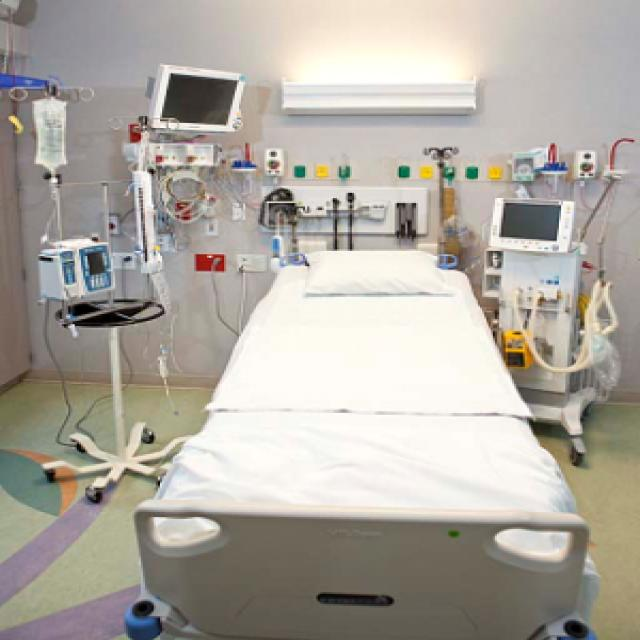cardiac_monitor: (154, 68, 241, 136), (497, 203, 575, 255)
iv_fluids: (14, 75, 97, 252)
patient_bed: (240, 252, 483, 526)
